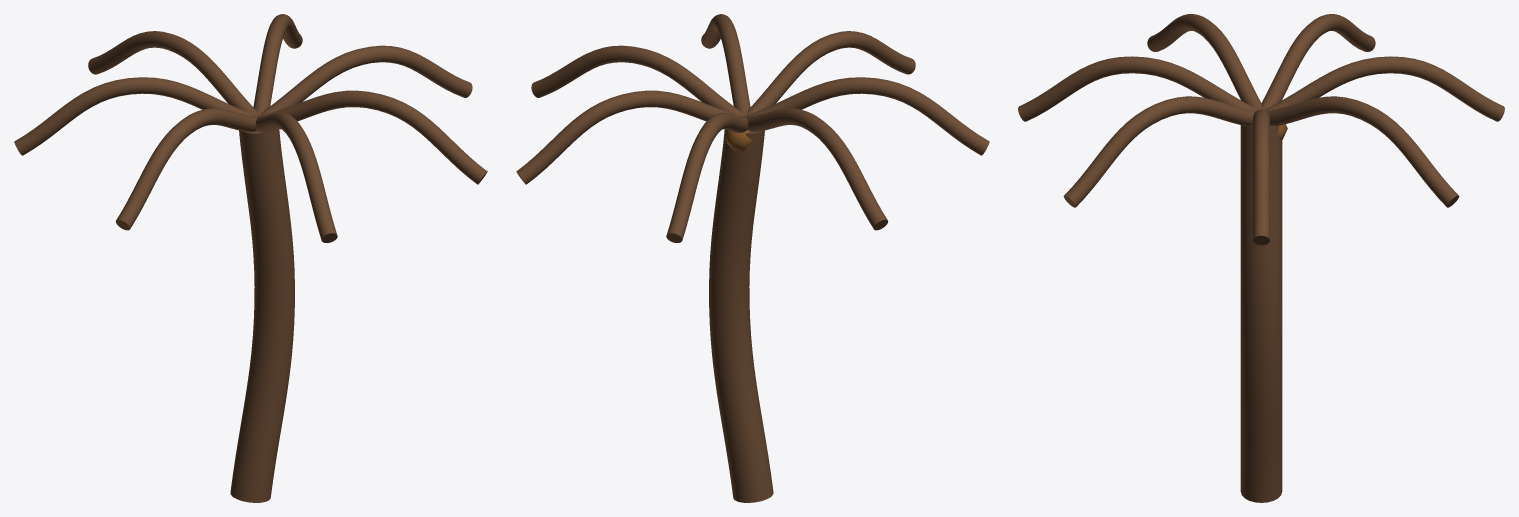
Rendered from tree_palm.glb.
The picture shows the model from 3 angles, left to right: view 1: azimuth 30°, elevation 25°; view 2: azimuth 150°, elevation 25°; view 3: azimuth 270°, elevation 25°; orthographic projection.
Visible parts, largest first — view 1: tree_palm; view 2: tree_palm; view 3: tree_palm.
Boxes of the visible parts, x1=… form: tree_palm: x1=14, y1=14, x2=487, y2=502; tree_palm: x1=516, y1=14, x2=989, y2=502; tree_palm: x1=1018, y1=14, x2=1504, y2=502.
Size of the model in its own units: 5.04 by 5.02 by 5.17.
